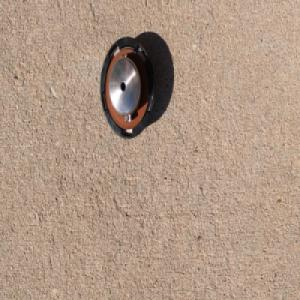FuelCap: (98, 34, 156, 142)
